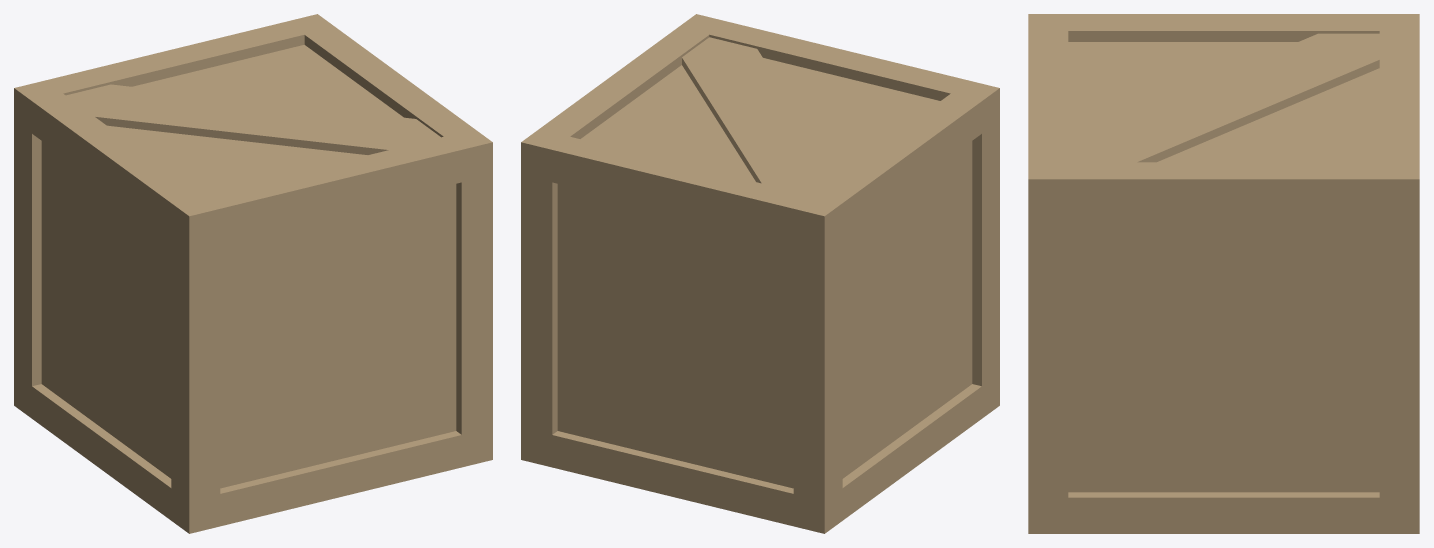
3 renders of one model, left to right at view 1: azimuth 30°, elevation 25°; view 2: azimuth 150°, elevation 25°; view 3: azimuth 270°, elevation 25°, orthographic. The views are drawn at different scales.
Visible parts, largest first — view 1: Object002; view 2: Object002; view 3: Object002.
Boxes of the visible parts, x1=… form: Object002: x1=14, y1=14, x2=492, y2=533; Object002: x1=521, y1=14, x2=999, y2=533; Object002: x1=1028, y1=14, x2=1419, y2=533.
Size of the model in its own units: 111 by 111 by 111.
